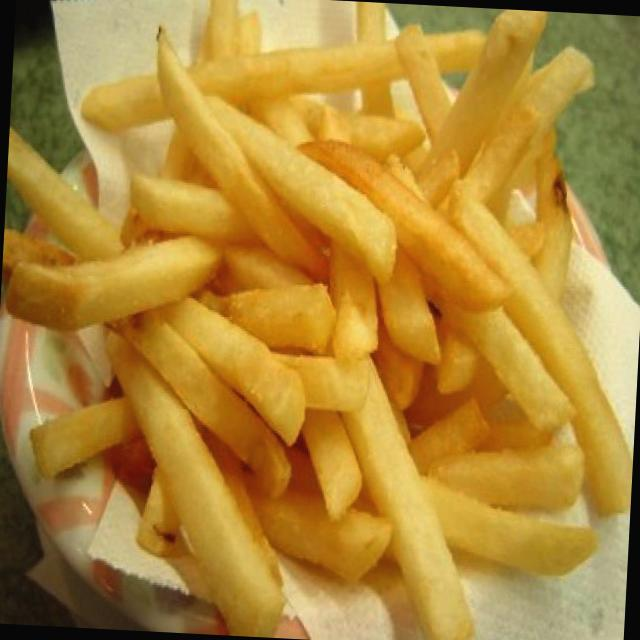French Fries: (27, 0, 614, 595)
